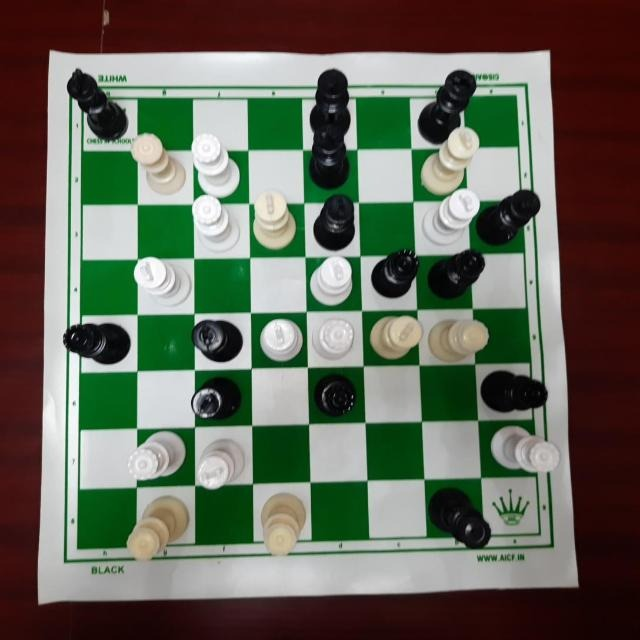black-king: (60, 64, 127, 144), (304, 110, 360, 192), (475, 181, 543, 248), (418, 65, 476, 137), (189, 316, 250, 368), (312, 63, 353, 133), (186, 379, 244, 427), (311, 192, 358, 247)
black-queen: (427, 482, 502, 553), (61, 314, 132, 366), (479, 369, 558, 415), (426, 246, 488, 301), (367, 248, 422, 306), (307, 371, 362, 423)
white-king: (412, 123, 484, 198), (424, 186, 484, 244), (365, 310, 427, 366), (194, 429, 244, 498), (248, 187, 303, 249), (304, 255, 365, 309), (133, 253, 192, 308), (252, 315, 309, 359)
white-queen: (123, 492, 188, 567), (131, 128, 187, 205), (254, 491, 314, 561), (484, 428, 564, 478), (121, 432, 186, 492), (190, 130, 244, 198), (427, 314, 495, 364), (309, 311, 367, 367), (188, 195, 238, 252)
